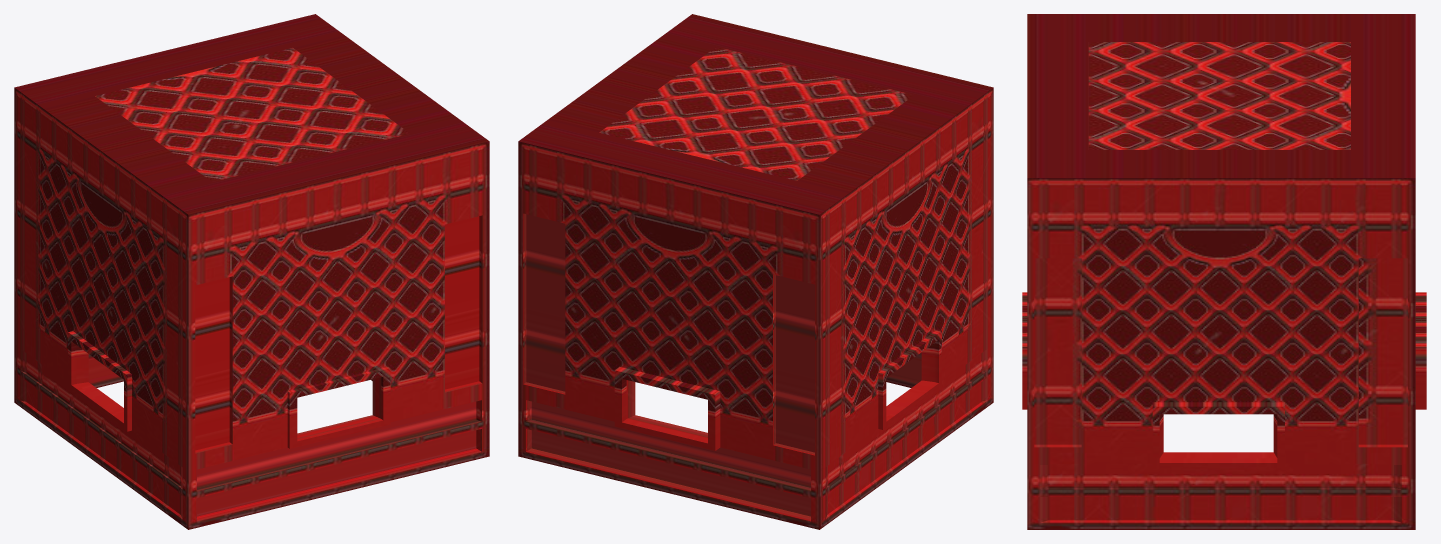
The model's file is lowresCrate.fbx.
3 views of the same model, side by side, from view 1: azimuth 30°, elevation 25°; view 2: azimuth 150°, elevation 25°; view 3: azimuth 270°, elevation 25° (orthographic). The views are drawn at different scales.
Parts seen in each view (by area): view 1: pCube1; view 2: pCube1; view 3: pCube1.
Part boxes in pixels (<box>): pCube1: <box>14,14,489,529</box>; pCube1: <box>518,14,993,529</box>; pCube1: <box>1022,14,1426,529</box>.
Size of the model in its own units: 1.04 by 1 by 1.04.
